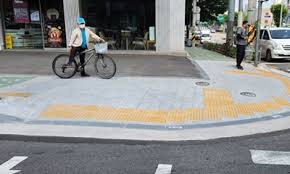guide_blocks: (42, 107, 182, 121), (239, 95, 285, 112), (185, 107, 238, 119), (203, 87, 231, 107), (227, 68, 270, 78)
